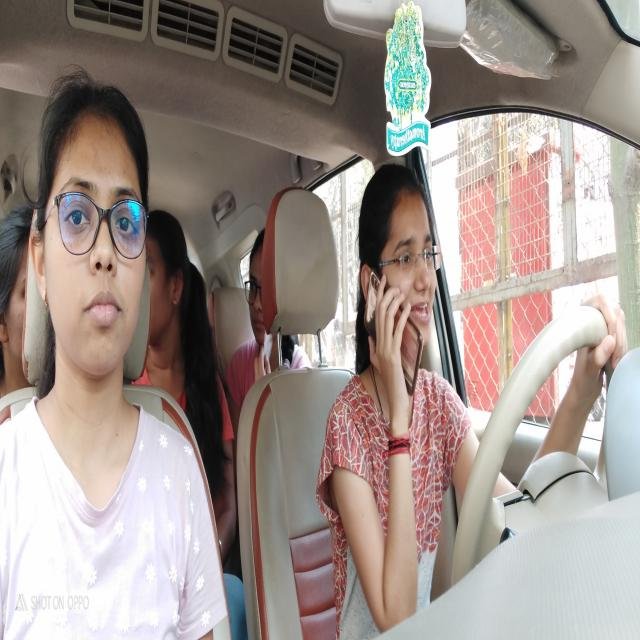mobile: (364, 271, 424, 398)
person: (40, 73, 150, 404), (358, 163, 445, 413), (147, 210, 197, 380), (0, 204, 38, 398), (247, 226, 270, 358)
